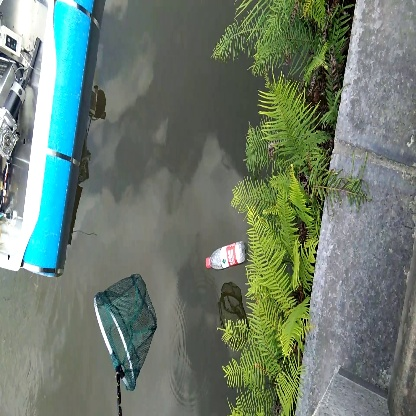bottle: (200, 236, 249, 275)
